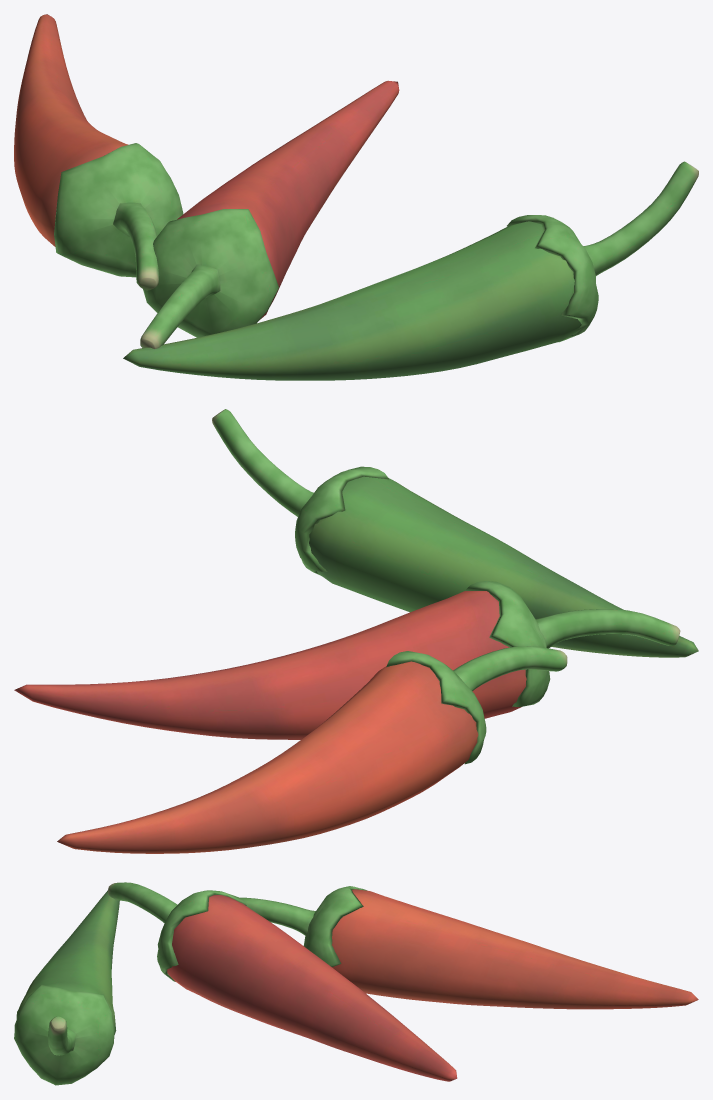
Rendered from chili-pepper.glb.
3 renders of one model, top to bottom at view 1: azimuth 30°, elevation 25°; view 2: azimuth 150°, elevation 25°; view 3: azimuth 270°, elevation 25°, orthographic. The views are drawn at different scales.
Parts seen in each view (by area): view 1: chili-pepper_body; view 2: chili-pepper_body; view 3: chili-pepper_body.
Part boxes in pixels (x1,y1,x2,y2): chili-pepper_body: (14,14,698,380); chili-pepper_body: (14,409,698,853); chili-pepper_body: (14,882,698,1085).
Bounding box in the file's own units: 0.0854 × 0.023 × 0.1195.
1 material, 1 textured.
